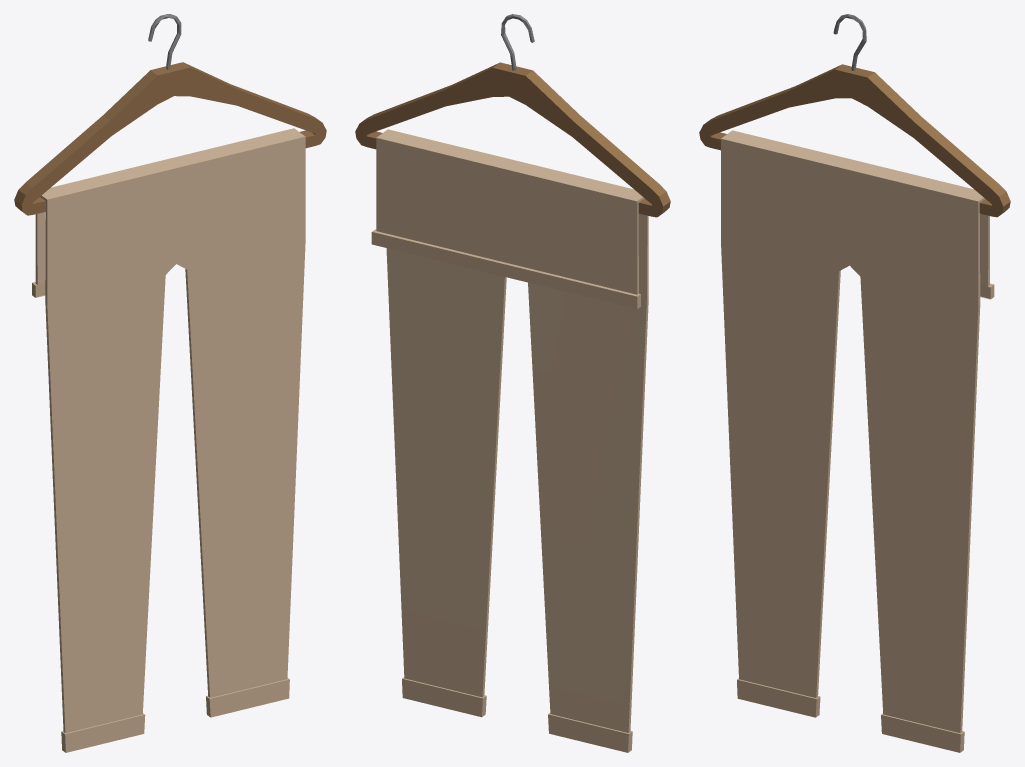
The model's file is Clothes5_C4.fbx.
The picture shows the model from 3 angles, left to right: view 1: azimuth 30°, elevation 25°; view 2: azimuth 150°, elevation 25°; view 3: azimuth 330°, elevation 25°; orthographic projection.
Parts seen in each view (by area): view 1: Clothes5_C4; view 2: Clothes5_C4; view 3: Clothes5_C4.
Boxes of the visible parts, box(x1,y1,x2,y2) form: Clothes5_C4: box(14, 14, 326, 752); Clothes5_C4: box(355, 14, 670, 752); Clothes5_C4: box(699, 14, 1010, 752).
Size of the model in its own units: 42.14 by 93.33 by 3.43.
